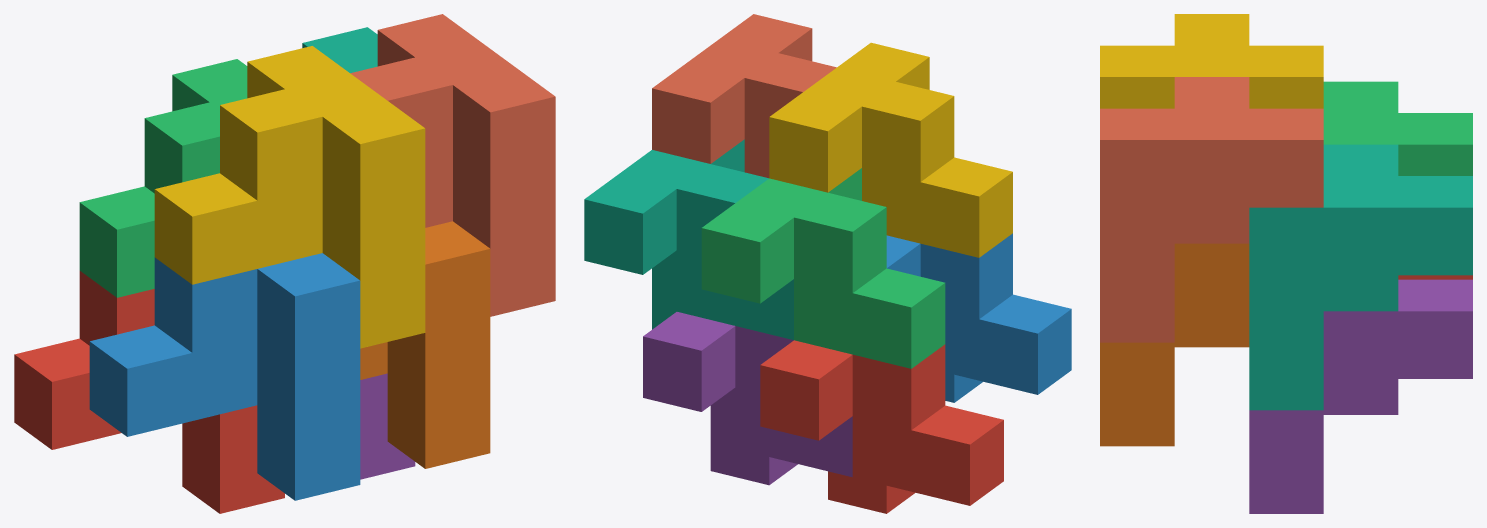
The model's file is tiling.obj.
3 views of the same model, side by side, from view 1: azimuth 30°, elevation 25°; view 2: azimuth 150°, elevation 25°; view 3: azimuth 270°, elevation 25° (orthographic). The views are drawn at different scales.
Parts seen in each view (by area): view 1: copy_1_domain_4, copy_1_domain_2, copy_1_domain_8, copy_1_domain_6, copy_1_domain_1, copy_1_domain_3, copy_1_domain_5, copy_1_domain_7; view 2: copy_1_domain_4, copy_1_domain_3, copy_1_domain_1, copy_1_domain_7, copy_1_domain_5, copy_1_domain_8, copy_1_domain_2; view 3: copy_1_domain_8, copy_1_domain_7, copy_1_domain_5, copy_1_domain_6, copy_1_domain_4, copy_1_domain_3.
Boxes of the visible parts, <box> form: copy_1_domain_4: <box>154,46,425,348</box>; copy_1_domain_2: <box>89,253,360,500</box>; copy_1_domain_8: <box>350,14,555,316</box>; copy_1_domain_6: <box>360,221,490,468</box>; copy_1_domain_1: <box>14,271,284,513</box>; copy_1_domain_3: <box>79,59,247,297</box>; copy_1_domain_5: <box>360,373,415,479</box>; copy_1_domain_7: <box>302,27,377,73</box>; copy_1_domain_4: <box>769,42,1012,257</box>; copy_1_domain_3: <box>701,168,945,368</box>; copy_1_domain_1: <box>760,340,1003,513</box>; copy_1_domain_7: <box>584,139,793,339</box>; copy_1_domain_5: <box>643,312,852,485</box>; copy_1_domain_8: <box>652,14,836,178</box>; copy_1_domain_2: <box>886,233,1071,402</box>; copy_1_domain_8: <box>1100,77,1323,342</box>; copy_1_domain_7: <box>1249,144,1472,410</box>; copy_1_domain_5: <box>1249,279,1472,513</box>; copy_1_domain_6: <box>1100,243,1249,446</box>; copy_1_domain_4: <box>1100,14,1323,108</box>; copy_1_domain_3: <box>1323,81,1472,175</box>.
Bounding box in the file's own units: 6 × 6 × 5.
